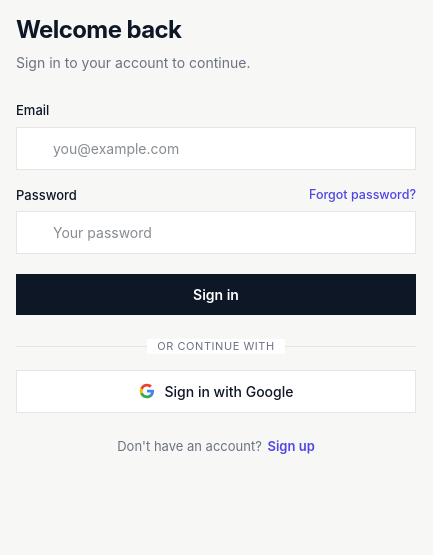
Test: LoginComponent › toggles to Create Account mode and updates password autocomplete hint
Click the button "Sign up": [291, 446] box x1=268 y1=437 x2=315 y2=456
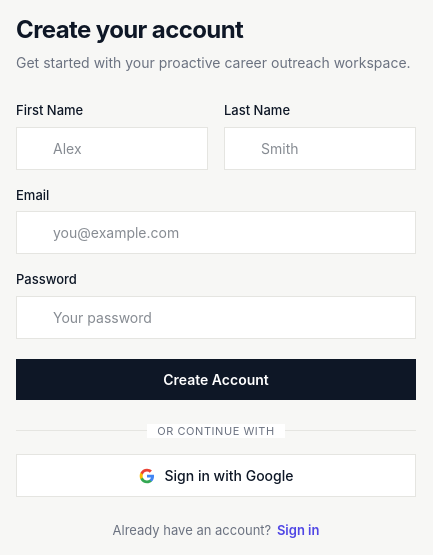
Expected: the heading "Create your account" is shown, x1=16 y1=15 x2=243 y2=44
Expected: the field labelled "First Name" is shown, x1=16 y1=126 x2=208 y2=170
Expected: the field labelled "Last Name" is shown, x1=224 y1=126 x2=416 y2=170
